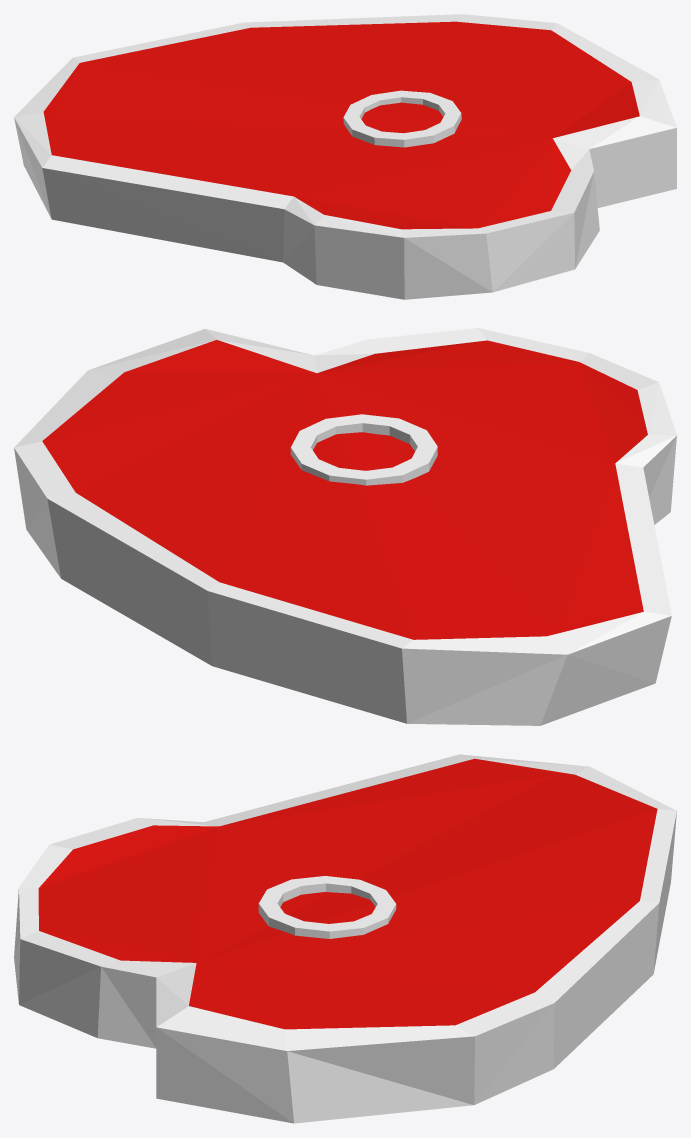
The picture shows the model from 3 angles, top to bottom: view 1: azimuth 30°, elevation 25°; view 2: azimuth 150°, elevation 25°; view 3: azimuth 270°, elevation 25°; orthographic projection. The views are drawn at different scales.
Size of the model in its own units: 0.3755 by 0.0518 by 0.3371.
